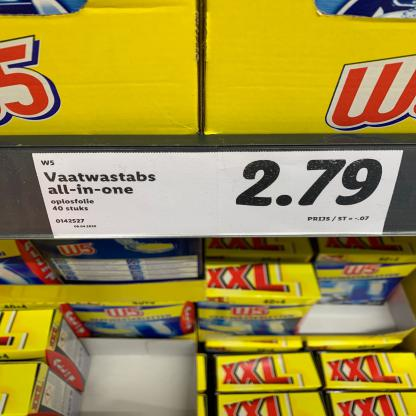prtg: (32, 151, 404, 239)
